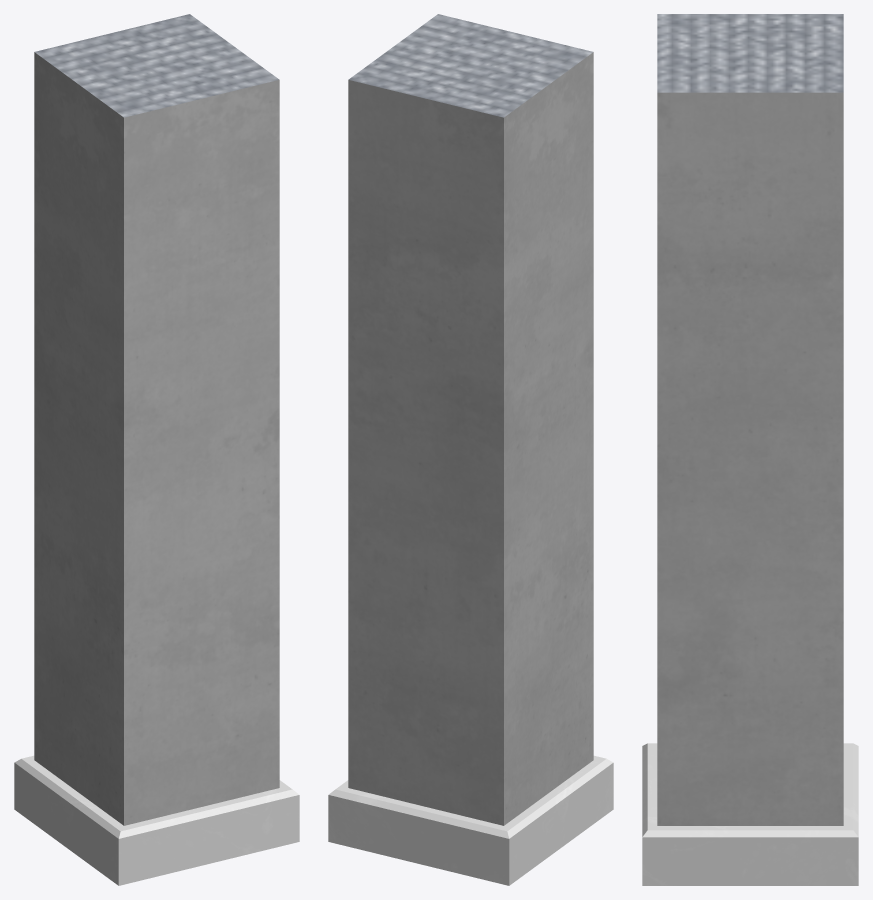
Rendered from Office_Pillar.fbx.
3 renders of one model, left to right at view 1: azimuth 30°, elevation 25°; view 2: azimuth 150°, elevation 25°; view 3: azimuth 270°, elevation 25°, orthographic. The views are drawn at different scales.
Parts seen in each view (by area): view 1: Pillar; view 2: Pillar; view 3: Pillar.
Part boxes in pixels (box(x1,y1,x2,y2)): Pillar: box(14, 14, 299, 885); Pillar: box(328, 14, 613, 885); Pillar: box(642, 14, 858, 885).
Bounding box in the file's own units: 0.8715 × 3.5 × 0.8715.
Materials: 1 (1 with a texture image).
